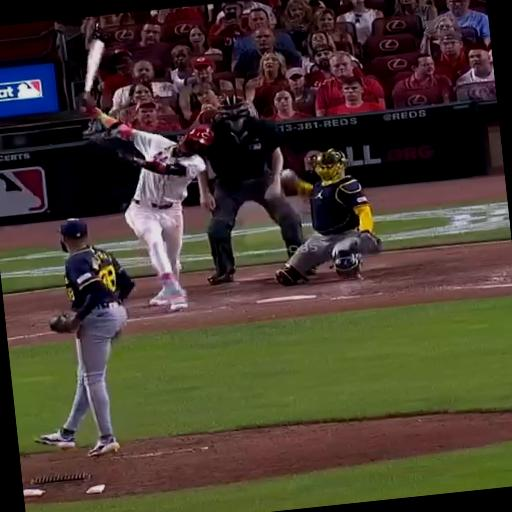bat: (84, 39, 104, 93)
